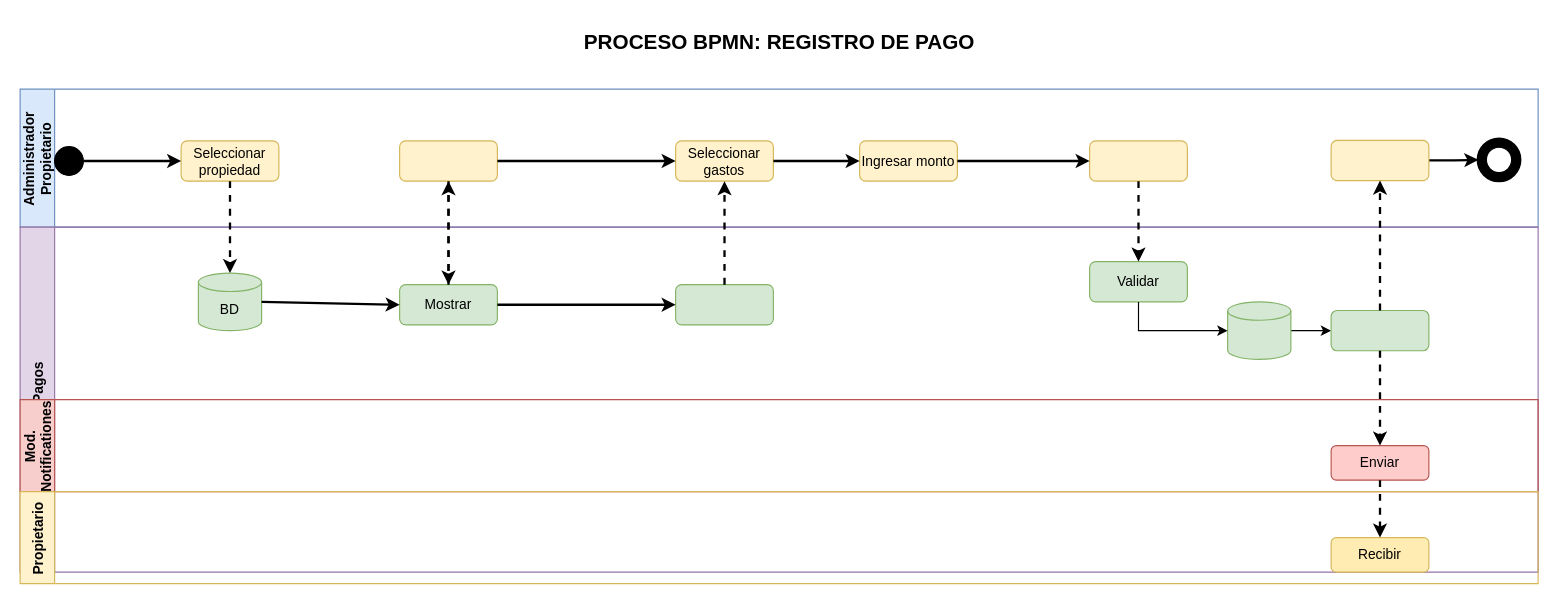
The diagram is 1558 pixels wide and 604 high, and some of its shapes have lost their labels. Here are the shapes that lost their labels. From the top down, the centre of each, then its label:
point 447,160: Ver gastos
point 1137,160: Confirmar
point 1379,160: Recibir recibo
point 723,304: Calcular
point 1258,330: Guardar
point 1379,330: Generar recibo
